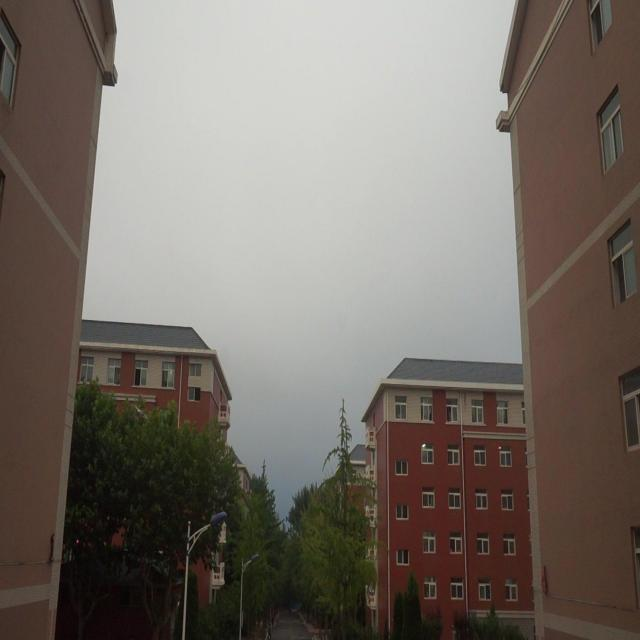UAV: (134, 405, 148, 422)
